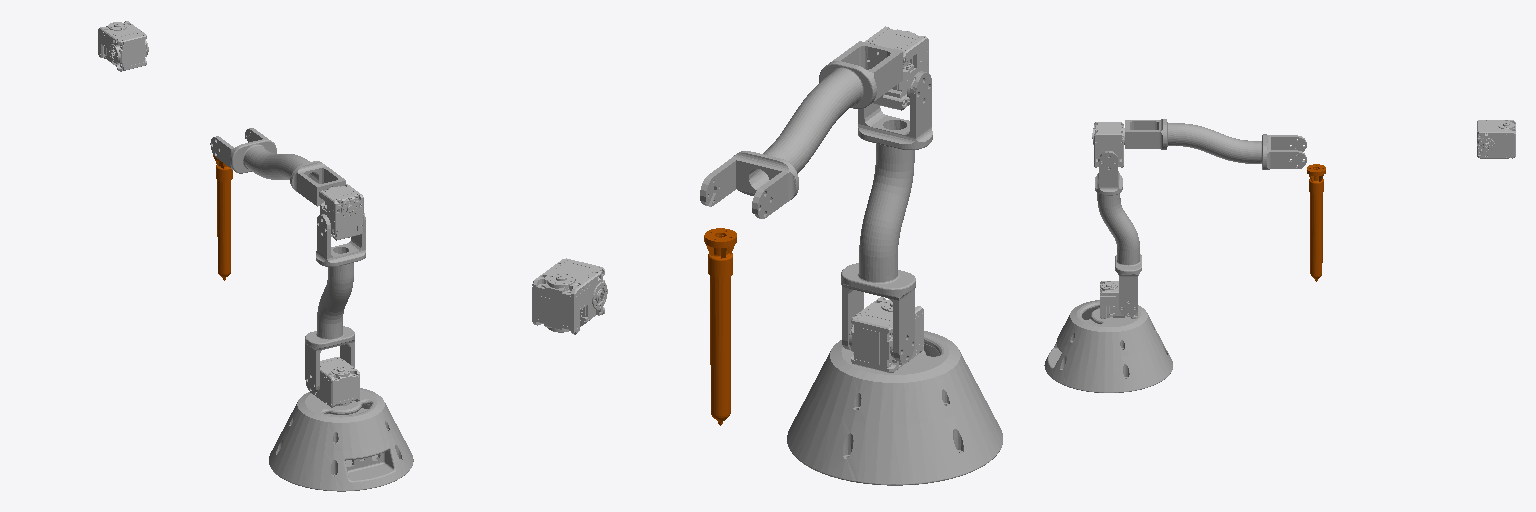
The robot description file, URDF, robot "manipulator_final2":
<?xml version="1.0" encoding="utf-8"?>
<!-- This URDF was automatically created by SolidWorks to URDF Exporter! Originally created by [author] ([email redacted]) 
     Commit Version: 1.6.0-4-g7f85cfe  Build Version: 1.6.7995.38578
     For more information, please see http://wiki.ros.org/sw_urdf_exporter -->
<robot
  name="manipulator_final2">
  <link
    name="base_link">
    <inertial>
      <origin
        xyz="5.34102915090199E-06 0.00149611119634719 0.027324411040906"
        rpy="0 0 0" />
      <mass
        value="0.399055600639488" />
      <inertia
        ixx="0.000594407764139081"
        ixy="1.10644547111889E-07"
        ixz="8.9739729973559E-09"
        iyy="0.000627271304371282"
        iyz="-7.29958201544485E-06"
        izz="0.00113695220568938" />
    </inertial>
    <visual>
      <origin
        xyz="0 0 0"
        rpy="0 0 0" />
      <geometry>
        <mesh
          filename="package://manipulator_final2/meshes/base_link.STL" />
      </geometry>
      <material
        name="">
        <color
          rgba="0.698039215686274 0.698039215686274 0.698039215686274 1" />
      </material>
    </visual>
    <collision>
      <origin
        xyz="0 0 0"
        rpy="0 0 0" />
      <geometry>
        <mesh
          filename="package://manipulator_final2/meshes/base_link.STL" />
      </geometry>
    </collision>
  </link>
  <link
    name="link_1">
    <inertial>
      <origin
        xyz="0.000495971250250975 -0.0119998499605218 0.0192958783777655"
        rpy="0 0 0" />
      <mass
        value="0.0569176277607128" />
      <inertia
        ixx="1.43924882902027E-05"
        ixy="5.82120294435648E-10"
        ixz="3.4400350775282E-07"
        iyy="1.02302735970703E-05"
        iyz="-7.69441167802789E-10"
        izz="1.43925048825667E-05" />
    </inertial>
    <visual>
      <origin
        xyz="0 0 0"
        rpy="0 0 0" />
      <geometry>
        <mesh
          filename="package://manipulator_final2/meshes/link_1.STL" />
      </geometry>
      <material
        name="">
        <color
          rgba="0.752941176470588 0.752941176470588 0.752941176470588 1" />
      </material>
    </visual>
    <collision>
      <origin
        xyz="0 0 0"
        rpy="0 0 0" />
      <geometry>
        <mesh
          filename="package://manipulator_final2/meshes/link_1.STL" />
      </geometry>
    </collision>
  </link>
  <joint
    name="joint_1"
    type="revolute">
    <origin
      xyz="0 0 0.07"
      rpy="0 0 3.14159265358979" />
    <parent
      link="base_link" />
    <child
      link="link_1" />
    <axis
      xyz="0 0 1" />
    <limit
      lower="0"
      upper="3.14"
      effort="0"
      velocity="0" />
  </joint>
  <link
    name="link_2">
    <inertial>
      <origin
        xyz="-0.00775223885247785 0.0986651693444381 3.09623365033344E-07"
        rpy="0 0 0" />
      <mass
        value="0.102283747087815" />
      <inertia
        ixx="0.000324874196102823"
        ixy="5.73246689425898E-05"
        ixz="5.45918906463503E-12"
        iyy="4.21097504903959E-05"
        iyz="-1.01732171356313E-09"
        izz="0.000321802212764245" />
    </inertial>
    <visual>
      <origin
        xyz="0 0 0"
        rpy="0 0 0" />
      <geometry>
        <mesh
          filename="package://manipulator_final2/meshes/link_2.STL" />
      </geometry>
      <material
        name="">
        <color
          rgba="0.698039215686274 0.698039215686274 0.698039215686274 1" />
      </material>
    </visual>
    <collision>
      <origin
        xyz="0 0 0"
        rpy="0 0 0" />
      <geometry>
        <mesh
          filename="package://manipulator_final2/meshes/link_2.STL" />
      </geometry>
    </collision>
  </link>
  <joint
    name="joint_2"
    type="revolute">
    <origin
      xyz="0 -0.02 0.02"
      rpy="1.5707963267949 0 -1.5707963267949" />
    <parent
      link="link_1" />
    <child
      link="link_2" />
    <axis
      xyz="0 0 1" />
    <limit
      lower="0"
      upper="3.14"
      effort="0"
      velocity="0" />
  </joint>
  <link
    name="link_3">
    <inertial>
      <origin
        xyz="0.0057998503185917 0.000495971402698678 0.000495878377765527"
        rpy="0 0 0" />
      <mass
        value="0.0569176277607128" />
      <inertia
        ixx="1.02302735970703E-05"
        ixy="-5.8212029443209E-10"
        ixz="7.69441167803565E-10"
        iyy="1.43924882902027E-05"
        iyz="3.44003507752819E-07"
        izz="1.43925048825667E-05" />
    </inertial>
    <visual>
      <origin
        xyz="0 0 0"
        rpy="0 0 0" />
      <geometry>
        <mesh
          filename="package://manipulator_final2/meshes/link_3.STL" />
      </geometry>
      <material
        name="">
        <color
          rgba="0.752941176470588 0.752941176470588 0.752941176470588 1" />
      </material>
    </visual>
    <collision>
      <origin
        xyz="0 0 0"
        rpy="0 0 0" />
      <geometry>
        <mesh
          filename="package://manipulator_final2/meshes/link_3.STL" />
      </geometry>
    </collision>
  </link>
  <joint
    name="joint_3"
    type="revolute">
    <origin
      xyz="-0.02 0.2 0"
      rpy="0 0 1.5707963267949" />
    <parent
      link="link_2" />
    <child
      link="link_3" />
    <axis
      xyz="0 0 1" />
    <limit
      lower="0"
      upper="3.14"
      effort="0"
      velocity="0" />
  </joint>
  <link
    name="link_4">
    <inertial>
      <origin
        xyz="-0.0140962967782675 4.33165647224752E-07 0.105115025906125"
        rpy="0 0 0" />
      <mass
        value="0.105070462984836" />
      <inertia
        ixx="0.000389981365707822"
        ixy="-2.10320734829936E-10"
        ixz="6.30292189438459E-05"
        iyy="0.000391756095860733"
        iyz="9.03524468098893E-10"
        izz="3.63349359947086E-05" />
    </inertial>
    <visual>
      <origin
        xyz="0 0 0"
        rpy="0 0 0" />
      <geometry>
        <mesh
          filename="package://manipulator_final2/meshes/link_4.STL" />
      </geometry>
      <material
        name="">
        <color
          rgba="0.698039215686274 0.698039215686274 0.698039215686274 1" />
      </material>
    </visual>
    <collision>
      <origin
        xyz="0 0 0"
        rpy="0 0 0" />
      <geometry>
        <mesh
          filename="package://manipulator_final2/meshes/link_4.STL" />
      </geometry>
    </collision>
  </link>
  <joint
    name="joint_4"
    type="revolute">
    <origin
      xyz="0.0200000000000001 -0.02 0"
      rpy="1.5707963267949 0 0" />
    <parent
      link="link_3" />
    <child
      link="link_4" />
    <axis
      xyz="0 0 1" />
    <limit
      lower="0"
      upper="0"
      effort="3.14"
      velocity="0" />
  </joint>
  <link
    name="link_5">
    <inertial>
      <origin
        xyz="-0.00570412111171636 -0.00950015024510067 0.000495971250250971"
        rpy="0 0 0" />
      <mass
        value="0.0569176277607128" />
      <inertia
        ixx="1.43925048825667E-05"
        ixy="7.69441167792837E-10"
        ixz="3.44003507752818E-07"
        iyy="1.02302735970703E-05"
        iyz="-5.82120294432704E-10"
        izz="1.43924882902027E-05" />
    </inertial>
    <visual>
      <origin
        xyz="0 0 0"
        rpy="0 0 0" />
      <geometry>
        <mesh
          filename="package://manipulator_final2/meshes/link_5.STL" />
      </geometry>
      <material
        name="">
        <color
          rgba="0.752941176470588 0.752941176470588 0.752941176470588 1" />
      </material>
    </visual>
    <collision>
      <origin
        xyz="0 0 0"
        rpy="0 0 0" />
      <geometry>
        <mesh
          filename="package://manipulator_final2/meshes/link_5.STL" />
      </geometry>
    </collision>
  </link>
  <joint
    name="joint_5"
    type="revolute">
    <origin
      xyz="-0.0200000000000001 0 0.21"
      rpy="-1.5707963267949 0 0" />
    <parent
      link="link_4" />
    <child
      link="link_5" />
    <axis
      xyz="0 0 1" />
    <limit
      lower="0"
      upper="3.14"
      effort="0"
      velocity="0" />
  </joint>
  <link
    name="link_6">
    <inertial>
      <origin
        xyz="0.00150005999207131 2.13388833428252E-08 0.0547308096922248"
        rpy="0 0 0" />
      <mass
        value="0.0340927901942582" />
      <inertia
        ixx="3.50572329271149E-05"
        ixy="-7.61605742281189E-12"
        ixz="2.2151447327463E-11"
        iyy="3.50572267074418E-05"
        iyz="1.82035089997711E-12"
        izz="1.13056449928989E-06" />
    </inertial>
    <visual>
      <origin
        xyz="0 0 0"
        rpy="0 0 0" />
      <geometry>
        <mesh
          filename="package://manipulator_final2/meshes/link_6.STL" />
      </geometry>
      <material
        name="">
        <color
          rgba="0.729411764705882 0.356862745098039 0.0235294117647059 1" />
      </material>
    </visual>
    <collision>
      <origin
        xyz="0 0 0"
        rpy="0 0 0" />
      <geometry>
        <mesh
          filename="package://manipulator_final2/meshes/link_6.STL" />
      </geometry>
    </collision>
  </link>
  <joint
    name="joint_6"
    type="revolute">
    <origin
      xyz="-0.04 -0.02 0"
      rpy="1.5707963267949 0 -1.5707963267949" />
    <parent
      link="link_5" />
    <child
      link="link_6" />
    <axis
      xyz="0 0 1" />
    <limit
      lower="0"
      upper="3.14"
      effort="0"
      velocity="0" />
  </joint>
</robot>

--- What the picture shows (computed from the rendered views, not written in the file) ---
The picture shows the robot from 3 angles, left to right: view 1: azimuth 30°, elevation 25°; view 2: azimuth 150°, elevation 25°; view 3: azimuth 270°, elevation 25°; orthographic projection.
Model manipulator_final2 with 7 links and 6 joints (6 revolute), rooted at base_link, posed all joints at 0.
Links seen in each view (by area): view 1: base_link, link_2, link_4, link_5, link_3, link_1, link_6; view 2: base_link, link_2, link_4, link_5, link_6, link_1, link_3; view 3: base_link, link_4, link_2, link_6, link_5, link_3, link_1.
Link boxes in pixels (x1=…): base_link: x1=269, y1=388, x2=413, y2=491; link_2: x1=305, y1=213, x2=365, y2=392; link_4: x1=210, y1=128, x2=345, y2=206; link_5: x1=98, y1=21, x2=148, y2=71; link_3: x1=319, y1=184, x2=363, y2=240; link_1: x1=312, y1=357, x2=359, y2=407; link_6: x1=213, y1=155, x2=232, y2=280; base_link: x1=787, y1=331, x2=1002, y2=485; link_2: x1=841, y1=71, x2=932, y2=362; link_4: x1=700, y1=41, x2=902, y2=218; link_5: x1=532, y1=258, x2=607, y2=334; link_6: x1=704, y1=228, x2=736, y2=425; link_1: x1=849, y1=297, x2=923, y2=372; link_3: x1=865, y1=26, x2=928, y2=110; base_link: x1=1044, y1=300, x2=1172, y2=392; link_4: x1=1125, y1=119, x2=1306, y2=169; link_2: x1=1095, y1=151, x2=1141, y2=316; link_6: x1=1307, y1=164, x2=1325, y2=281; link_5: x1=1477, y1=120, x2=1515, y2=158; link_3: x1=1092, y1=122, x2=1124, y2=167; link_1: x1=1100, y1=281, x2=1137, y2=318.
Bounding box of the posed robot: 0.1559 × 0.5708 × 0.3265 m (x, y, z).
7 mesh visuals loaded from 7 distinct referenced files (7 binary STL).